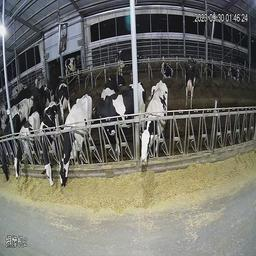cow: (58, 89, 91, 187), (142, 76, 166, 194), (39, 91, 56, 191), (97, 65, 128, 95), (182, 51, 197, 109), (112, 40, 132, 78), (60, 51, 79, 75), (227, 59, 240, 88), (203, 56, 218, 81), (159, 51, 172, 78)
